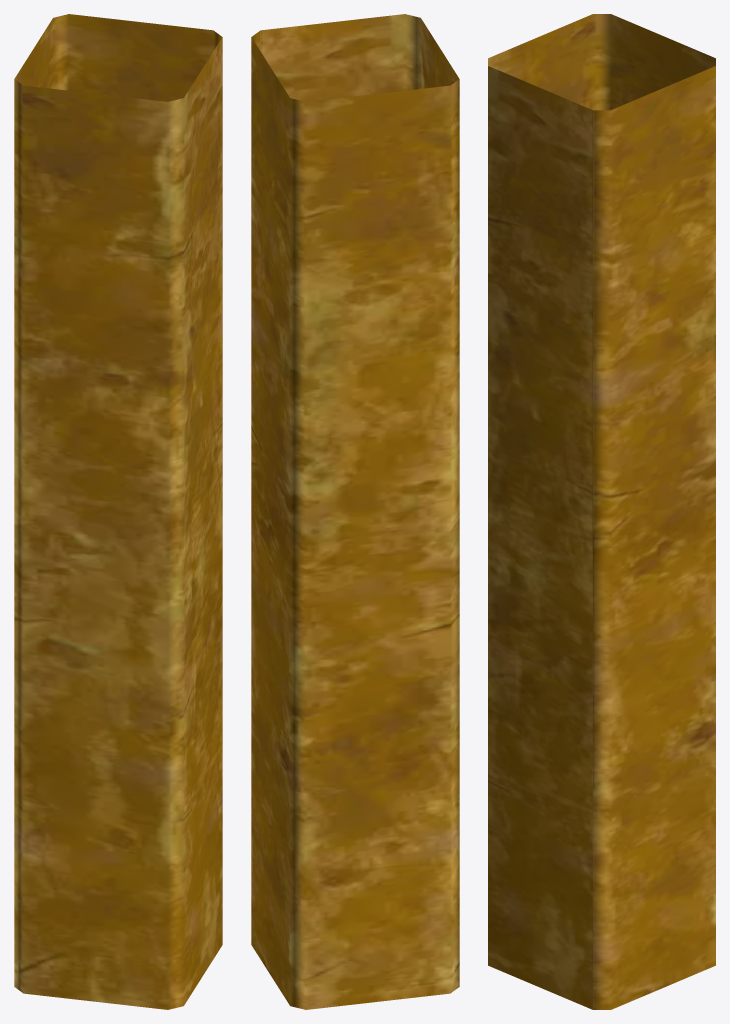
3 views of the same model, side by side, from view 1: azimuth 30°, elevation 25°; view 2: azimuth 150°, elevation 25°; view 3: azimuth 270°, elevation 25° (orthographic).
Parts seen in each view (by area): view 1: SM_Dragonkin_Pipe_2m_01_v2_LOD0; view 2: SM_Dragonkin_Pipe_2m_01_v2_LOD0; view 3: SM_Dragonkin_Pipe_2m_01_v2_LOD0.
Part boxes in pixels (box(x1,y1,x2,y2)): SM_Dragonkin_Pipe_2m_01_v2_LOD0: box(14, 14, 222, 1009); SM_Dragonkin_Pipe_2m_01_v2_LOD0: box(251, 14, 459, 1009); SM_Dragonkin_Pipe_2m_01_v2_LOD0: box(488, 14, 715, 1009).
Size of the model in its own units: 0.4586 by 2 by 0.4586.
1 material, 1 textured.
